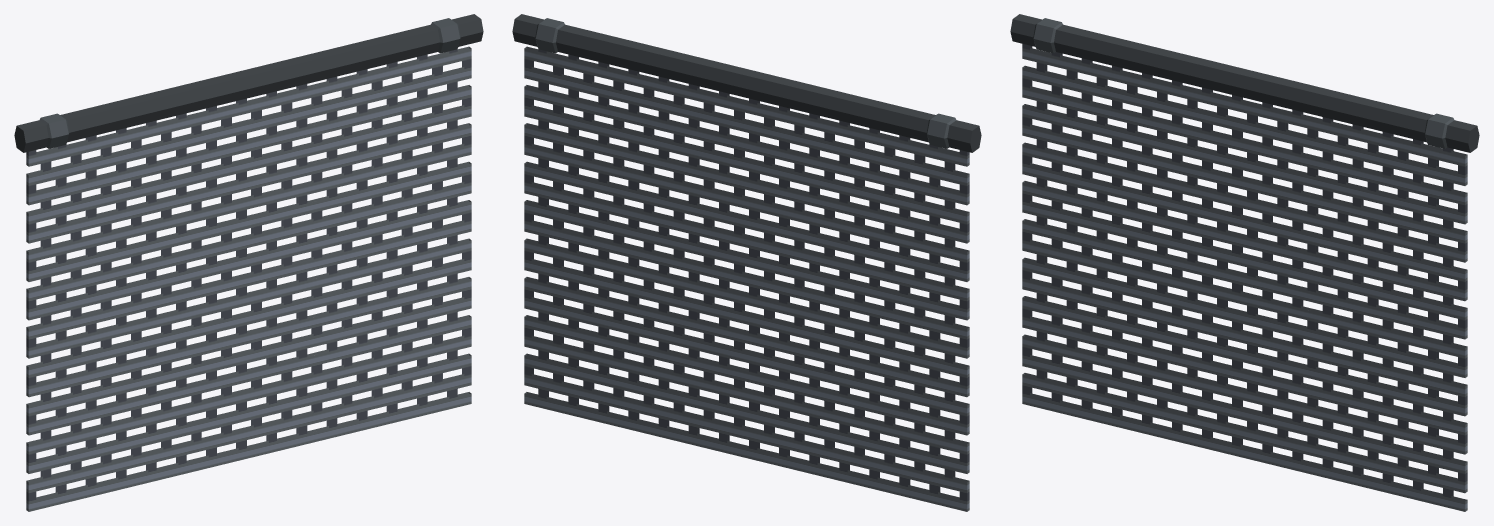
The model's file is SM_Bld_Wall_Shutter_02.fbx.
3 views of the same model, side by side, from view 1: azimuth 30°, elevation 25°; view 2: azimuth 150°, elevation 25°; view 3: azimuth 330°, elevation 25° (orthographic).
Parts seen in each view (by area): view 1: SM_Bld_Wall_Shutter_02_Bars, SM_Bld_Wall_Shutter_02; view 2: SM_Bld_Wall_Shutter_02_Bars, SM_Bld_Wall_Shutter_02; view 3: SM_Bld_Wall_Shutter_02_Bars, SM_Bld_Wall_Shutter_02.
Boxes of the visible parts, left/top/right/bottom form: SM_Bld_Wall_Shutter_02_Bars: left=26, top=46, right=471, bottom=511; SM_Bld_Wall_Shutter_02: left=14, top=14, right=483, bottom=152; SM_Bld_Wall_Shutter_02_Bars: left=524, top=46, right=969, bottom=511; SM_Bld_Wall_Shutter_02: left=512, top=14, right=981, bottom=152; SM_Bld_Wall_Shutter_02_Bars: left=1022, top=44, right=1467, bottom=511; SM_Bld_Wall_Shutter_02: left=1010, top=14, right=1479, bottom=152.
Bounding box in the file's own units: 375 × 302 × 20.13.
